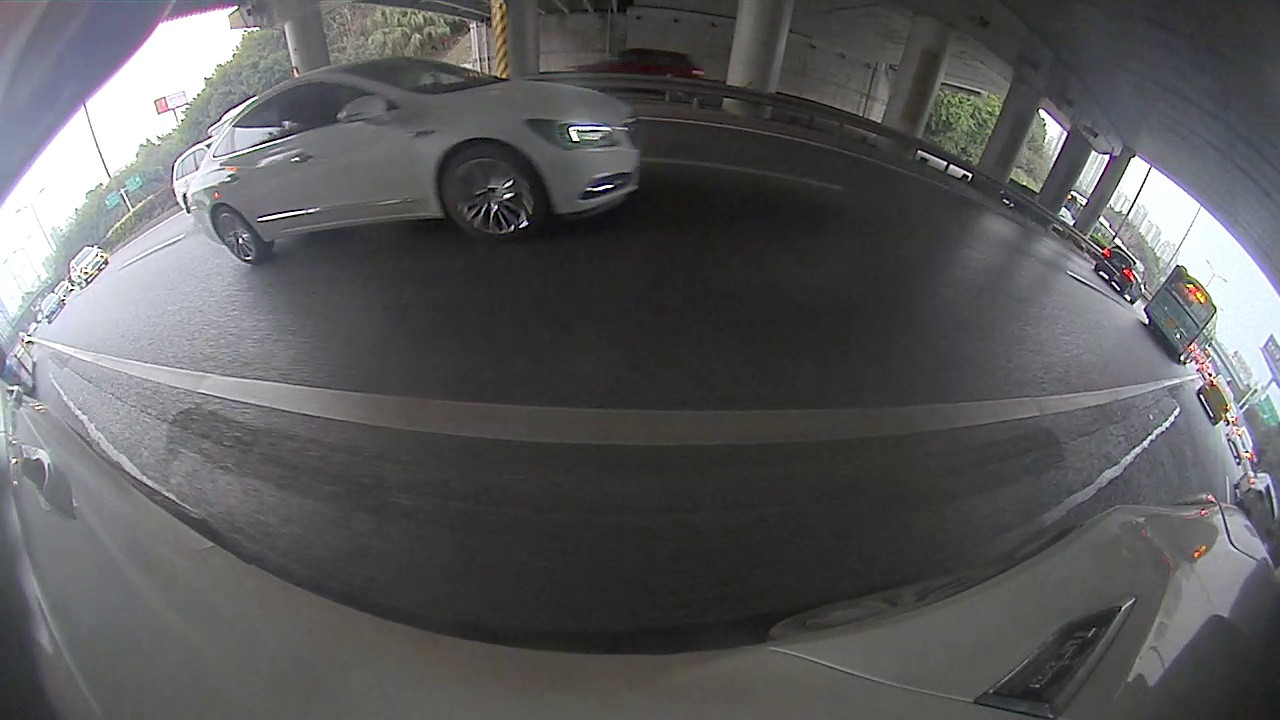bus: (1143, 265, 1215, 364)
car: (190, 58, 643, 264), (582, 50, 703, 80), (171, 142, 217, 216), (1093, 247, 1147, 304), (1235, 471, 1277, 537), (1198, 375, 1235, 425), (69, 247, 108, 287), (1225, 427, 1256, 462), (38, 293, 65, 323)
front: (436, 141, 553, 246)
rear: (210, 205, 269, 265)
